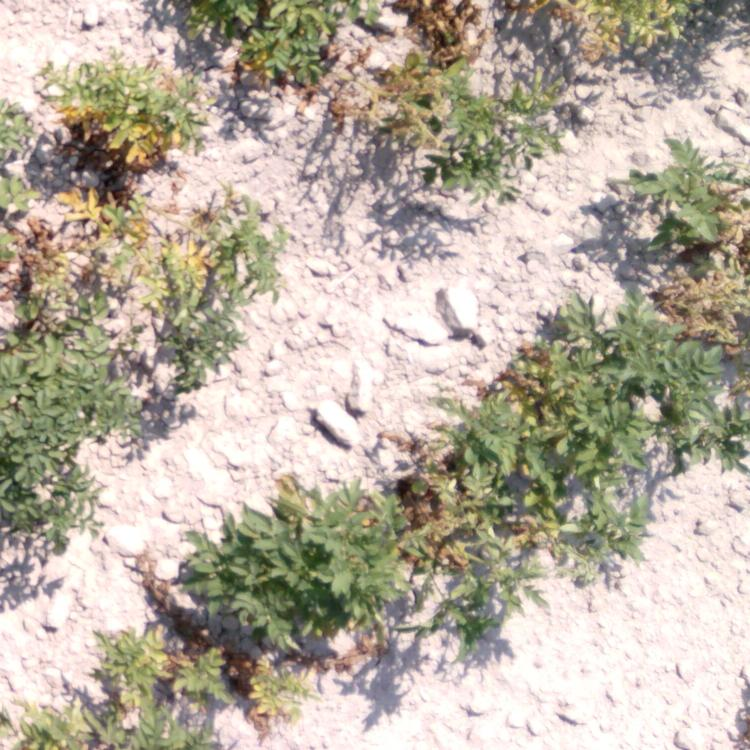healthy: (212, 491, 356, 641), (1, 364, 79, 521), (187, 1, 326, 33)
stressed: (10, 189, 215, 336), (347, 1, 501, 163), (639, 161, 750, 363), (374, 423, 497, 579), (48, 62, 183, 179), (506, 322, 641, 436), (128, 640, 258, 730), (503, 4, 669, 64)
